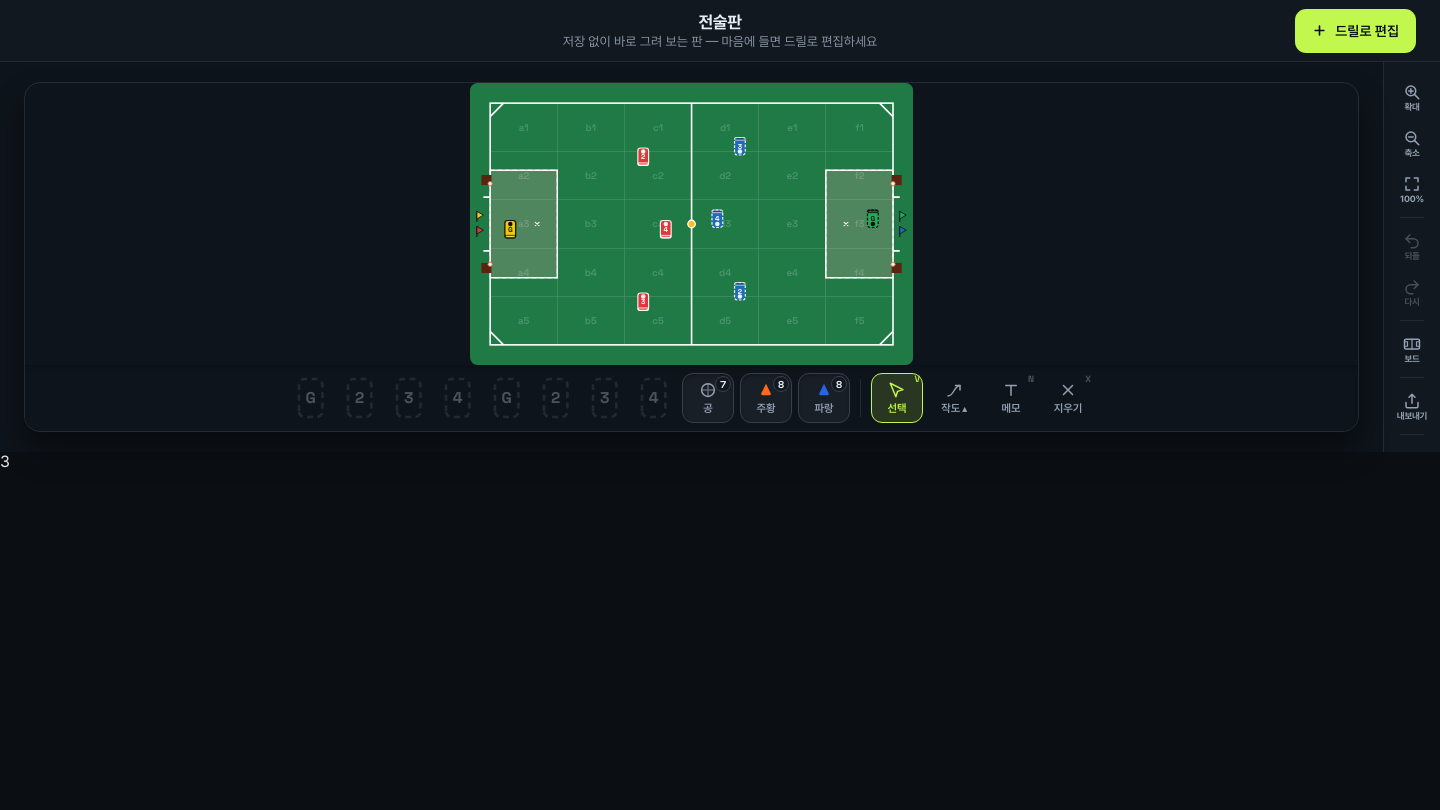
Scenario: 코트 비우기 — 덩어리가 크므로 확인을 받고, 되돌릴 수 있다 › 비운 뒤에도 선수는 명단에 남는다 — 다시 놓을 수 있어야 한다
Expected: the navigation bar named "도구" is shown, top-left (25, 365), bottom-right (1358, 431)
Click the button with aria-label "보드 설정": x=1412, y=349 top-left (1390, 327), bottom-right (1434, 371)
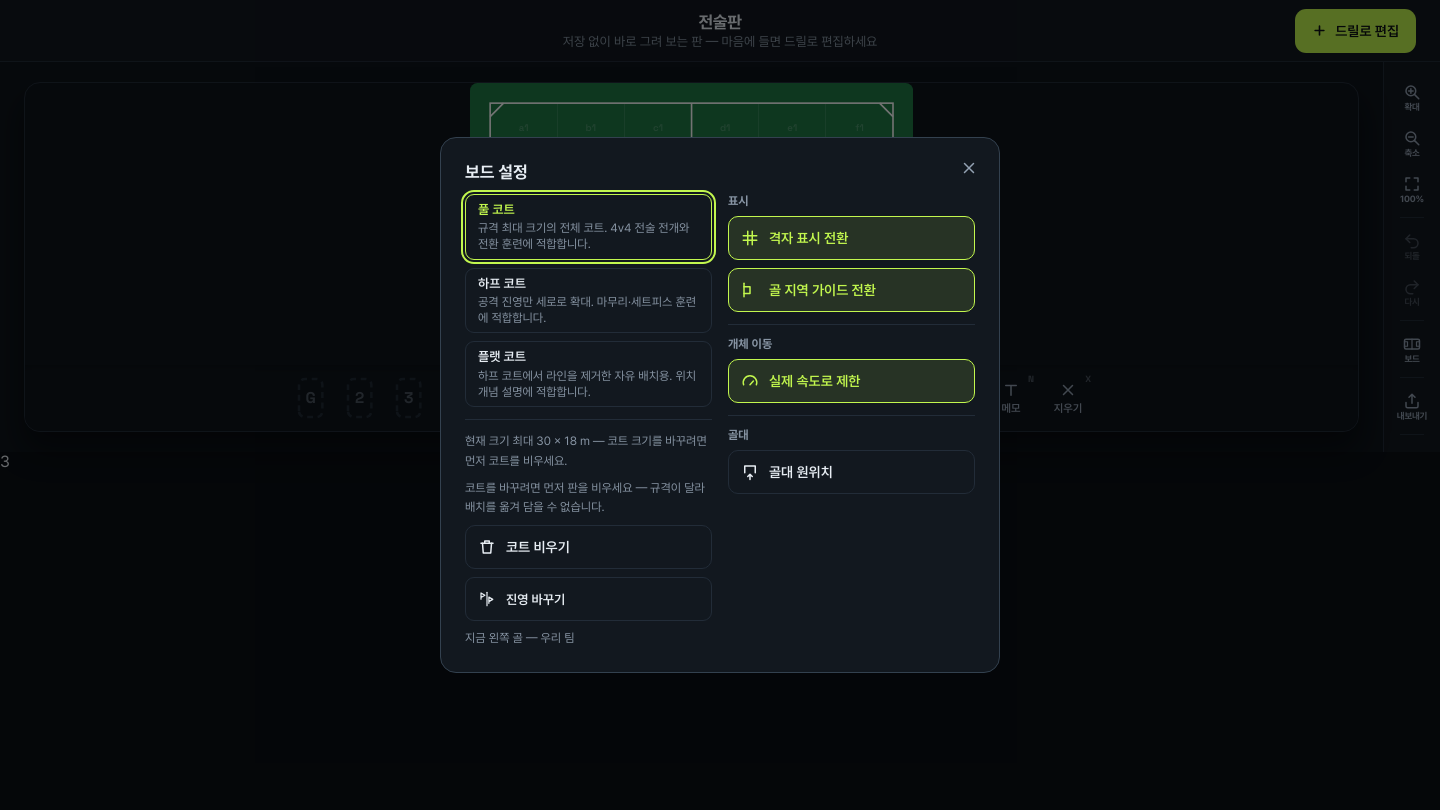
Click the button "코트 비우기": x=588, y=547 top-left (465, 525), bottom-right (712, 569)
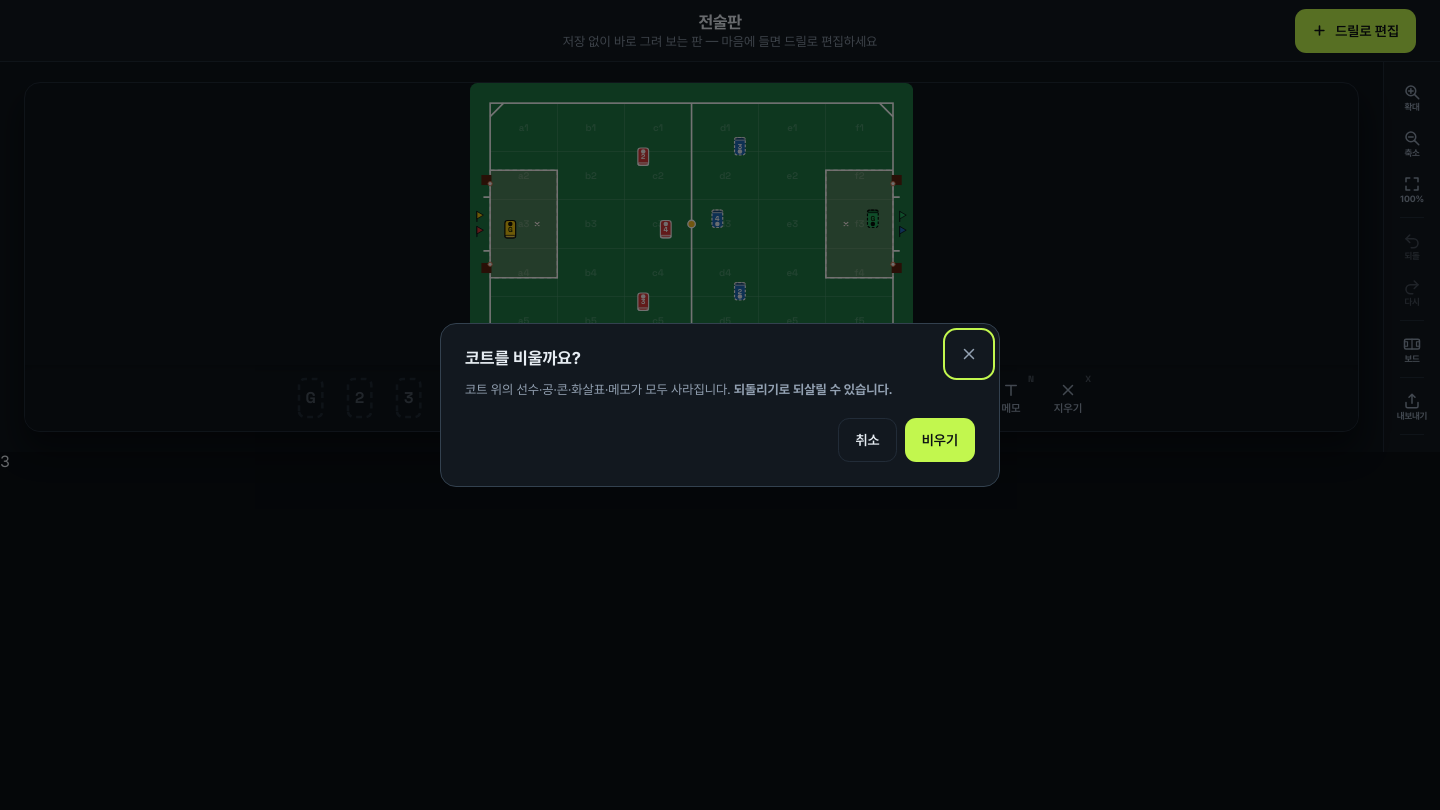
Click the button "비우기": x=940, y=440 top-left (905, 418), bottom-right (975, 462)
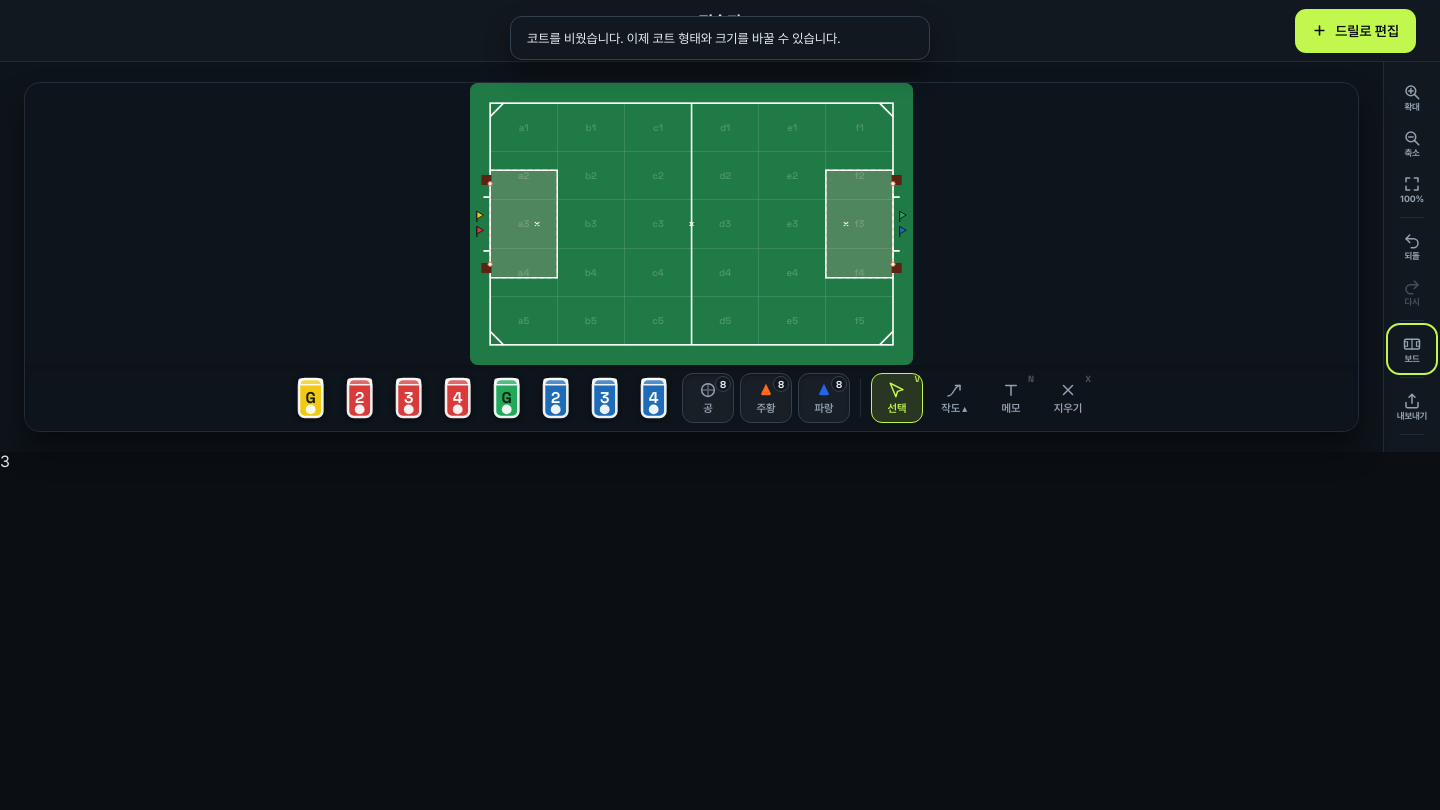
Click the button with aria-label "보드 설정": x=1412, y=349 top-left (1390, 327), bottom-right (1434, 371)
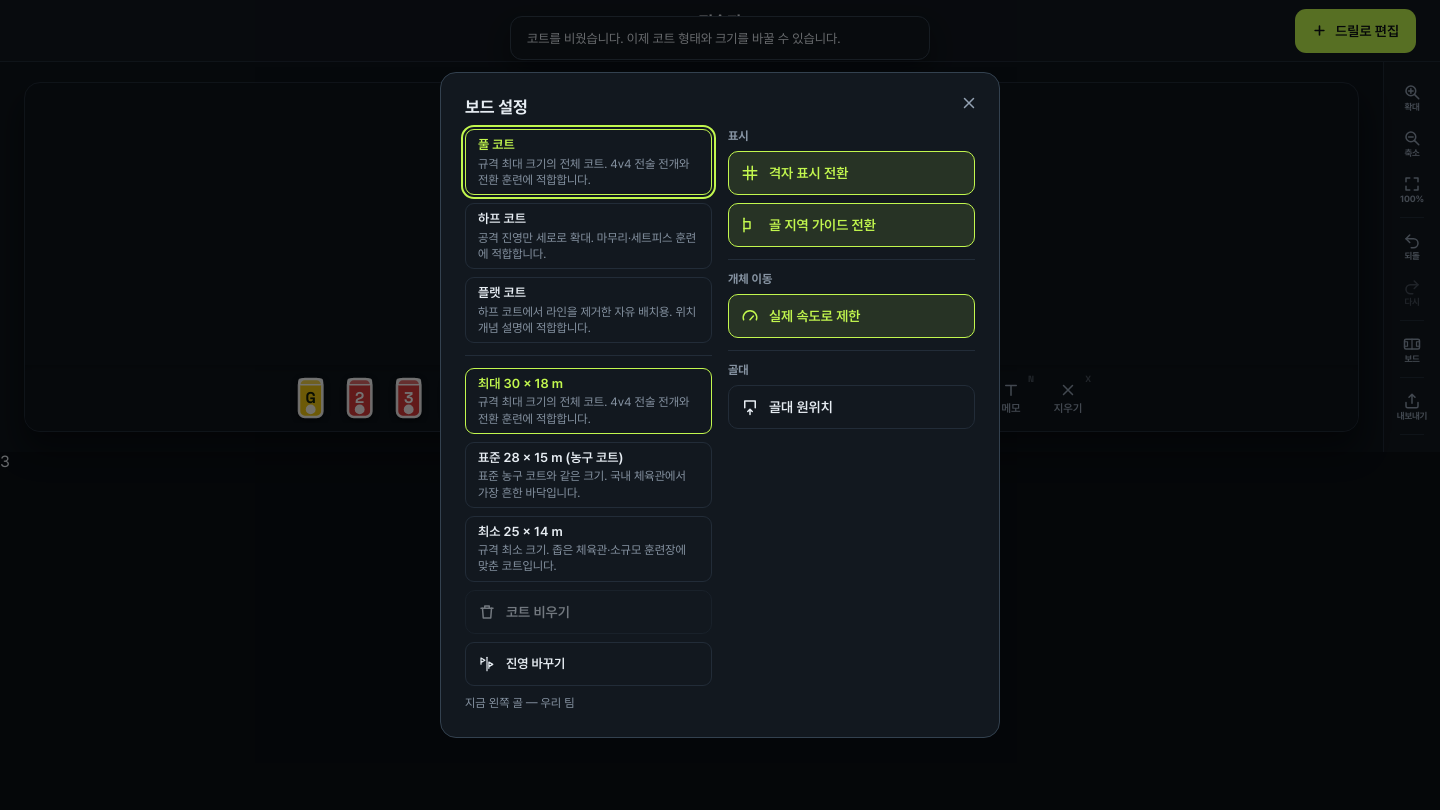
Expected: the number of buttons named "선수 배치" is 8
